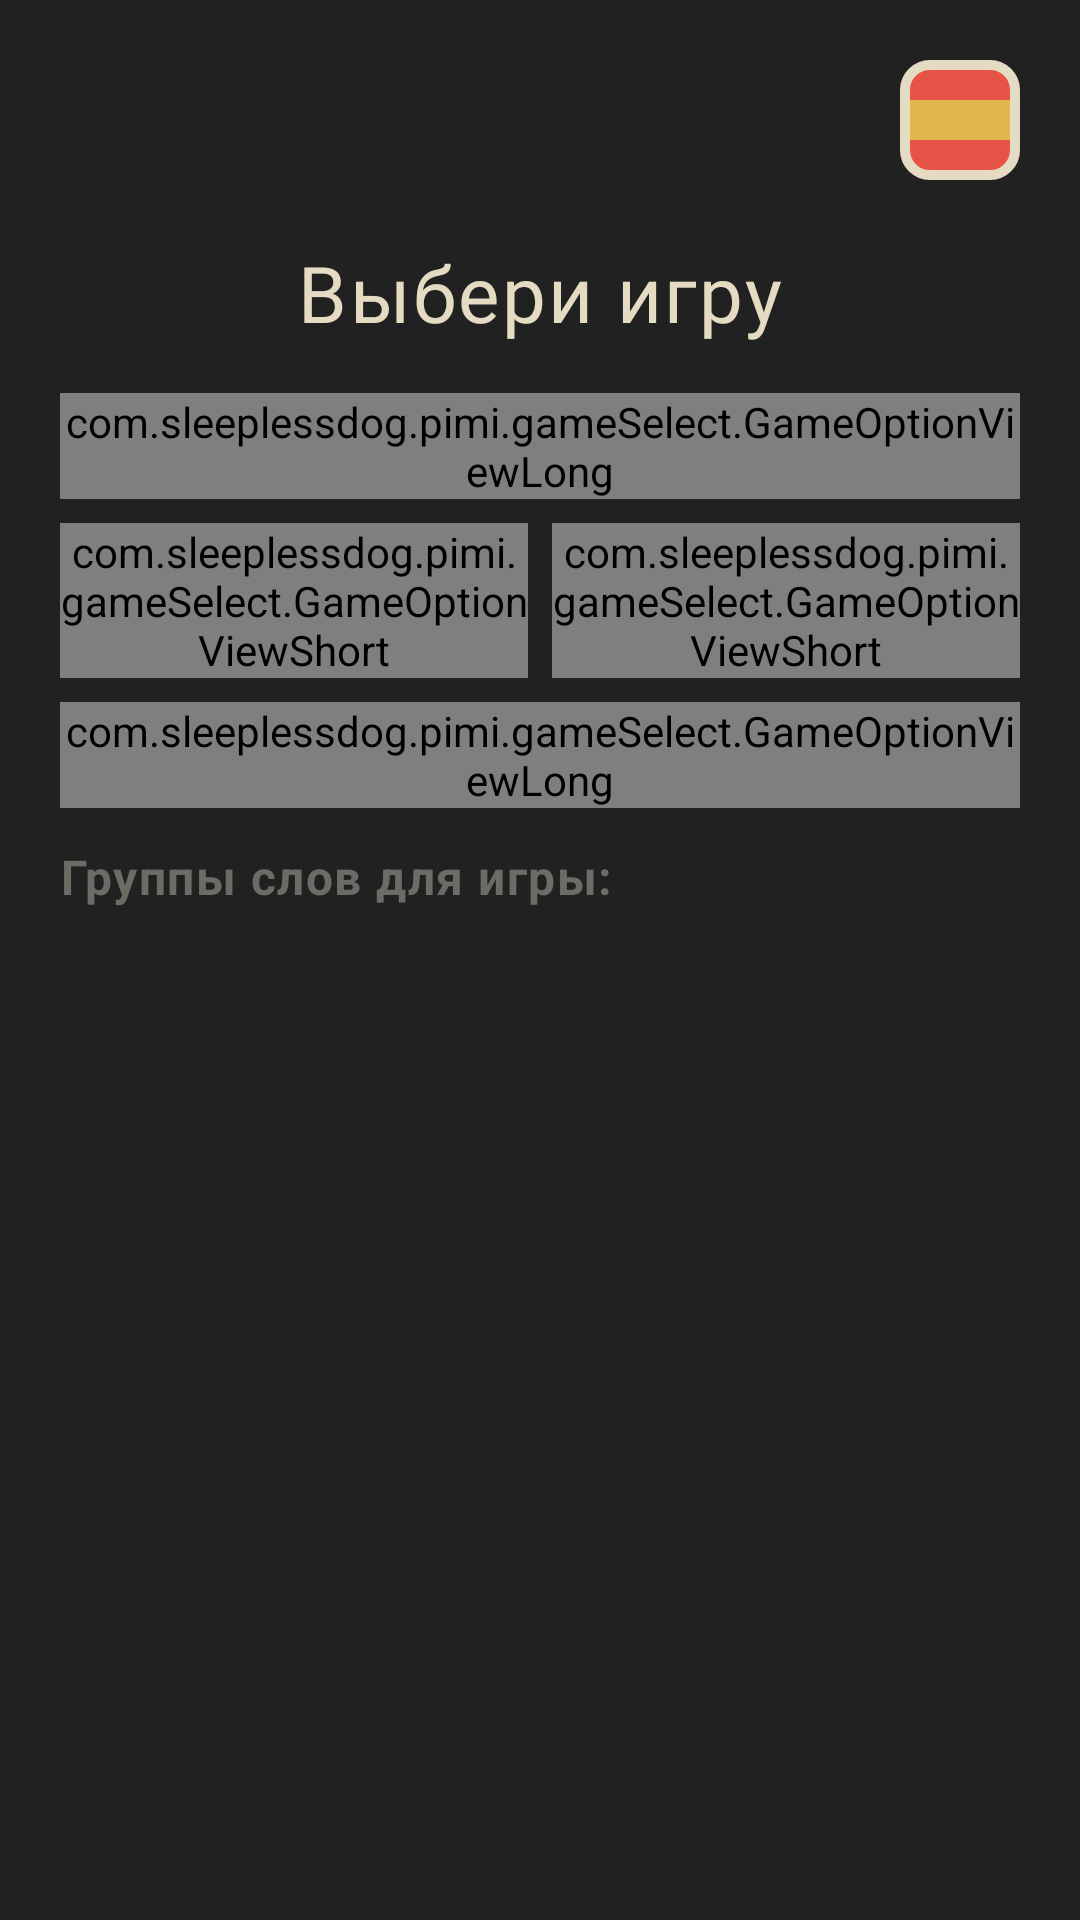

Where icons sit on this 1080*1920 app screen, as (x1, y1, x2, y2):
language flag spanish: (900, 60, 1020, 180)
